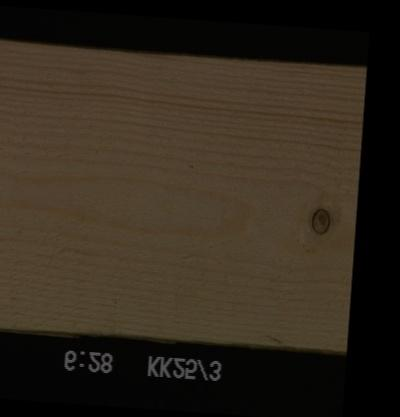dry_knot: (308, 205, 330, 235)
